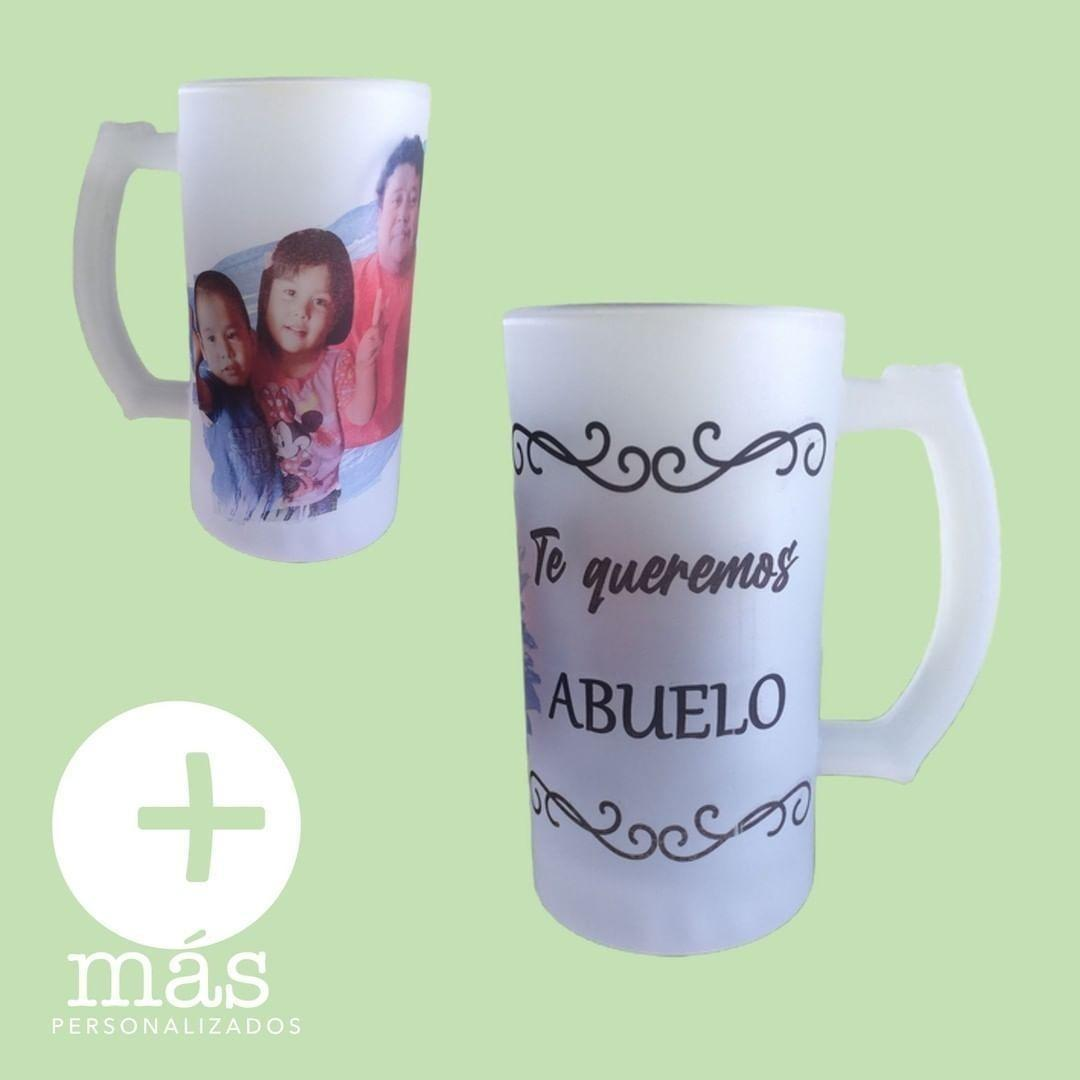glass-mug: (492, 291, 1009, 961), (66, 63, 436, 575)
